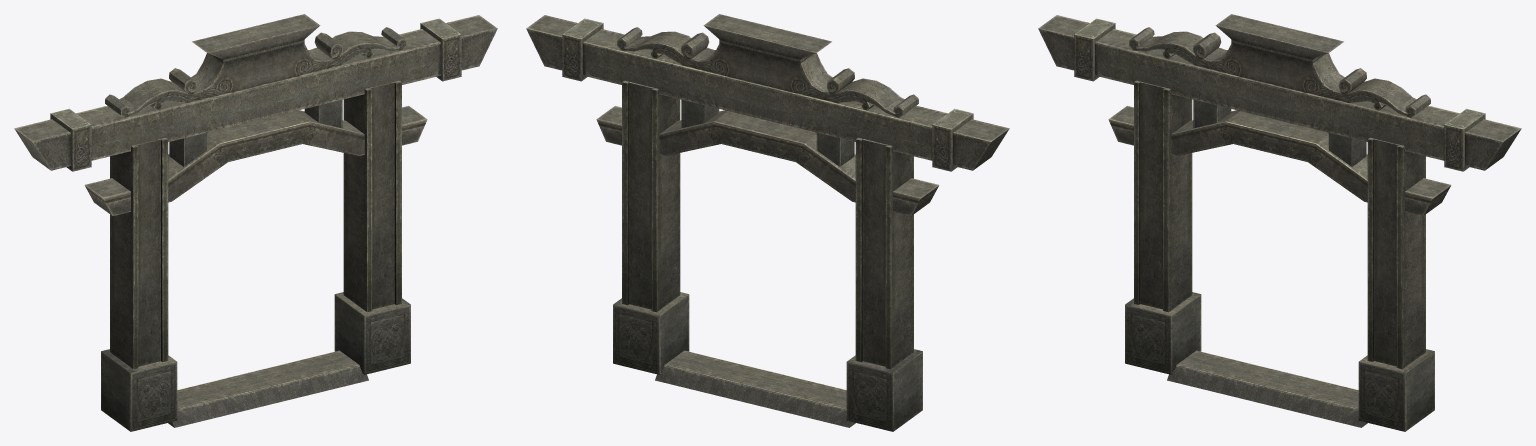
The model's file is dawnmist_gate.fbx.
The picture shows the model from 3 angles, left to right: view 1: azimuth 30°, elevation 25°; view 2: azimuth 150°, elevation 25°; view 3: azimuth 330°, elevation 25°; orthographic projection.
Parts seen in each view (by area): view 1: DawnMist_wall; view 2: DawnMist_wall; view 3: DawnMist_wall.
Part boxes in pixels (x1=…): DawnMist_wall: x1=14, y1=14, x2=497, y2=431; DawnMist_wall: x1=526, y1=14, x2=1009, y2=431; DawnMist_wall: x1=1038, y1=14, x2=1521, y2=431.
Bounding box in the file's own units: 24.27 × 17.91 × 2.87.
